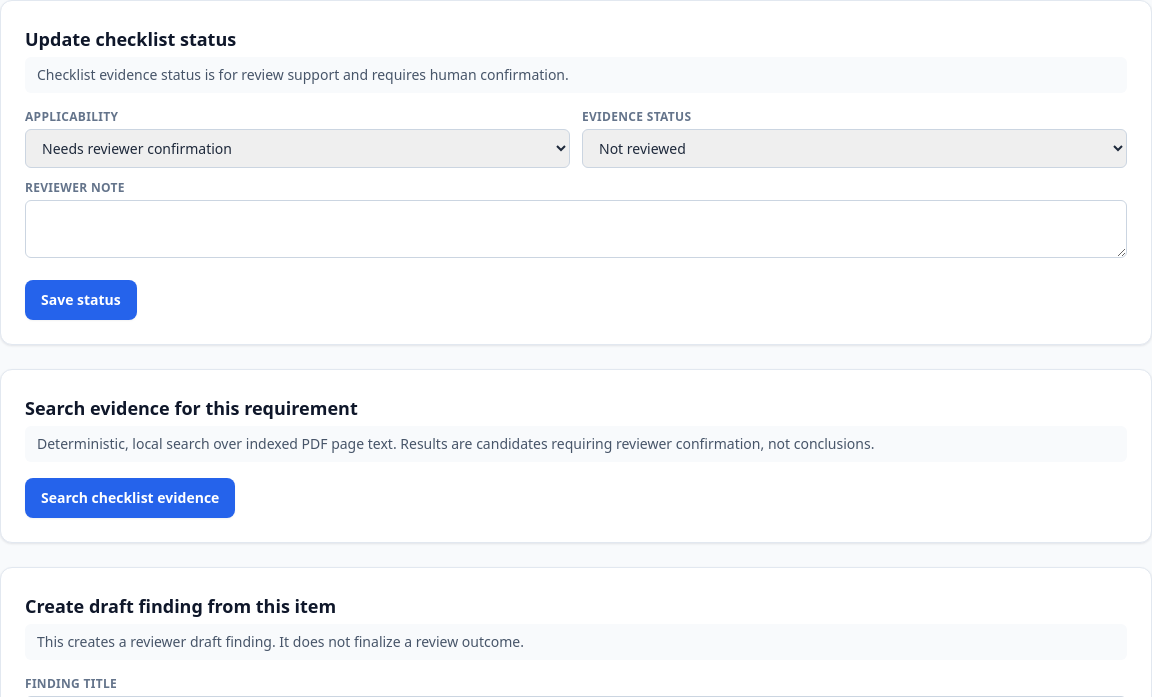
Test case: Checklist item review panel › searches evidence with the expected payload
The image size is (1152, 697).
Click the button "Search checklist evidence": (130, 498) [25, 478, 235, 518]
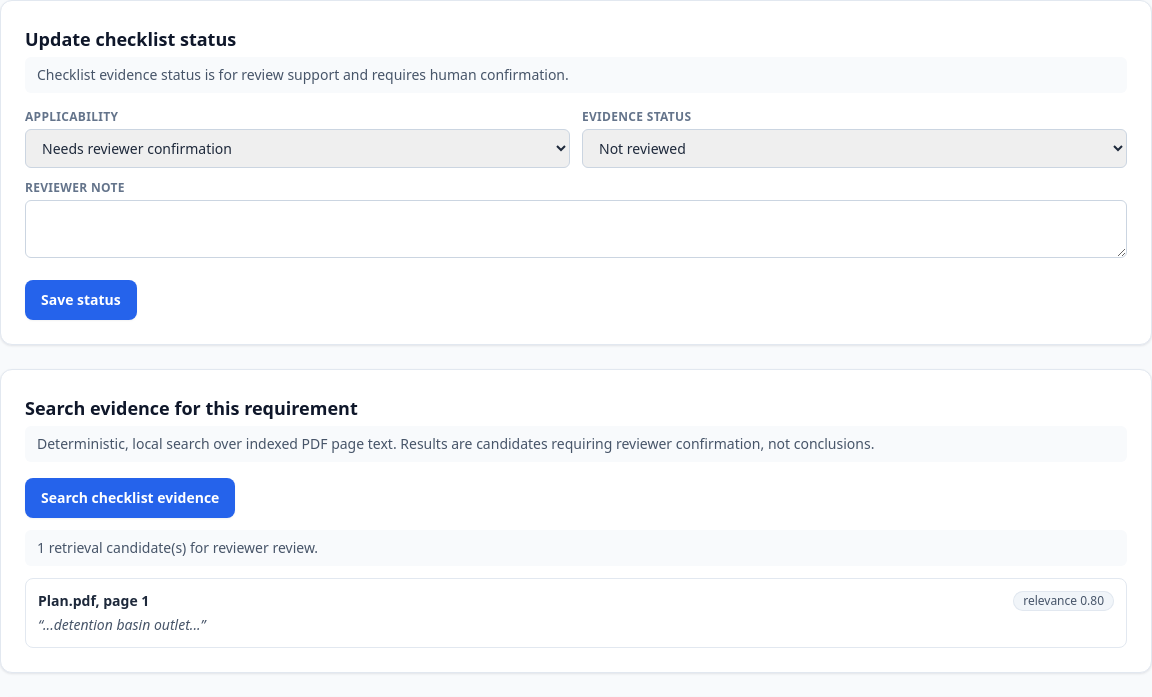
Expected: the text "Plan.pdf, page 1" is shown, [38, 591, 149, 611]
